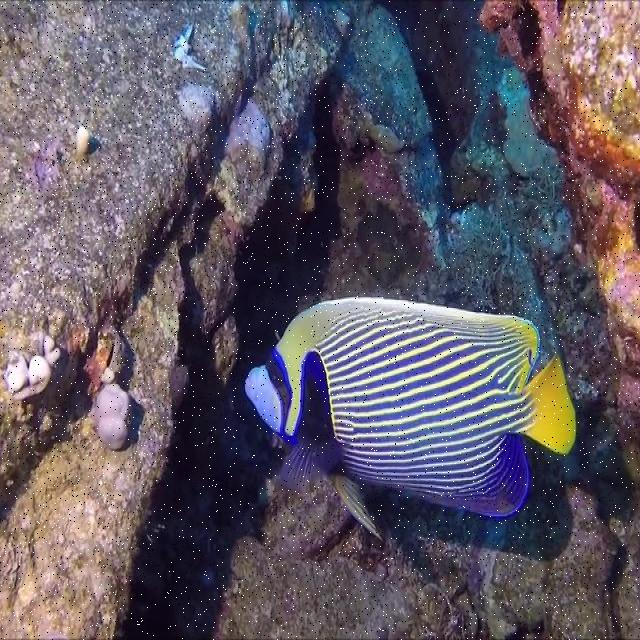fish: (242, 299, 579, 538)
reefs: (4, 339, 65, 398), (91, 382, 127, 447)
